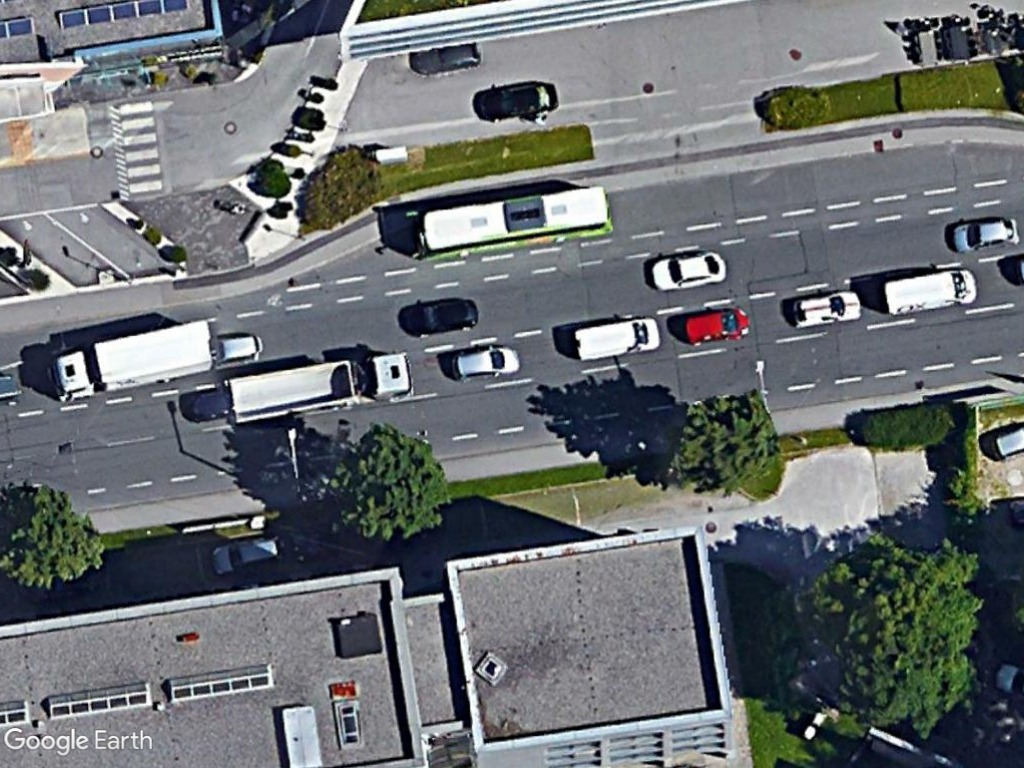bus: (411, 181, 614, 262)
car: (645, 241, 732, 294), (393, 291, 480, 341), (783, 282, 867, 333), (944, 210, 1024, 256), (446, 339, 523, 385), (674, 304, 751, 349)
truck: (46, 311, 220, 407), (217, 346, 411, 423)
van: (564, 308, 663, 366), (877, 263, 980, 318)
